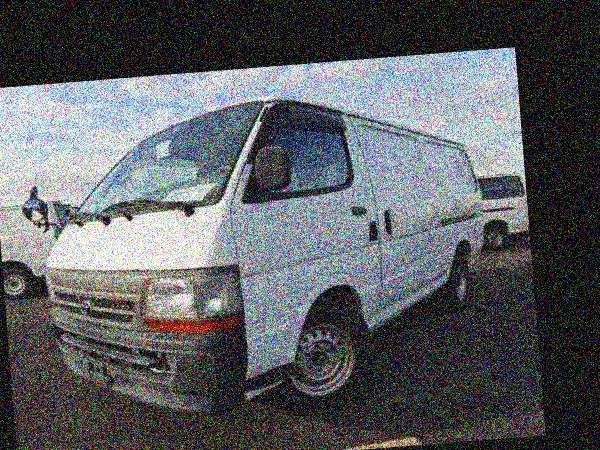van: (28, 80, 500, 436)
